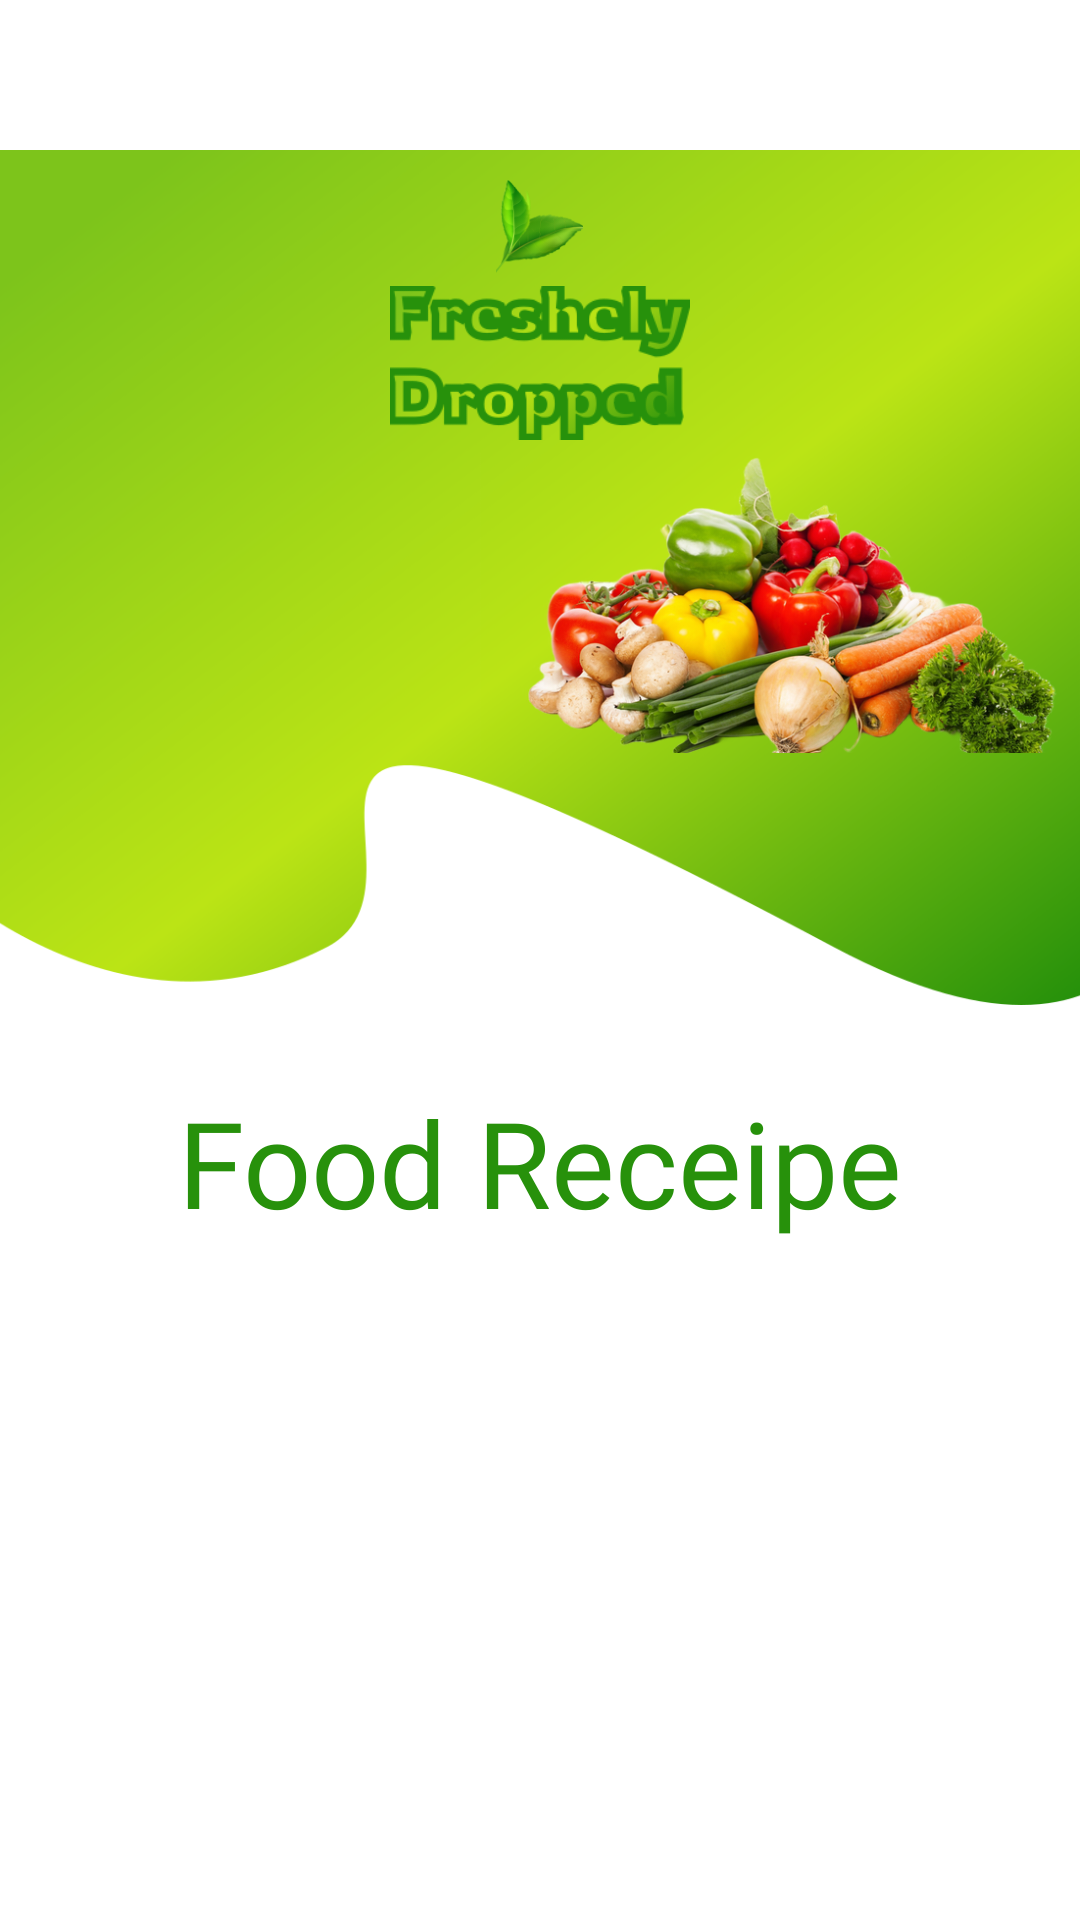

Icons on this 1080 x 1920 Android screen, each with its box as (x1, y1, x2, y2):
home leaf: (496, 180, 583, 272)
